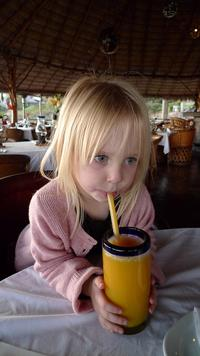person: (15, 70, 167, 343)
